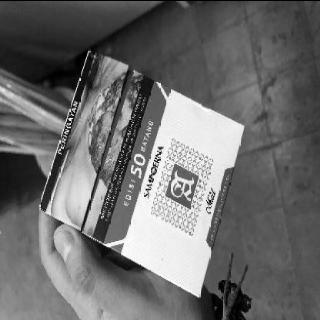objects: (40, 50, 244, 296)
